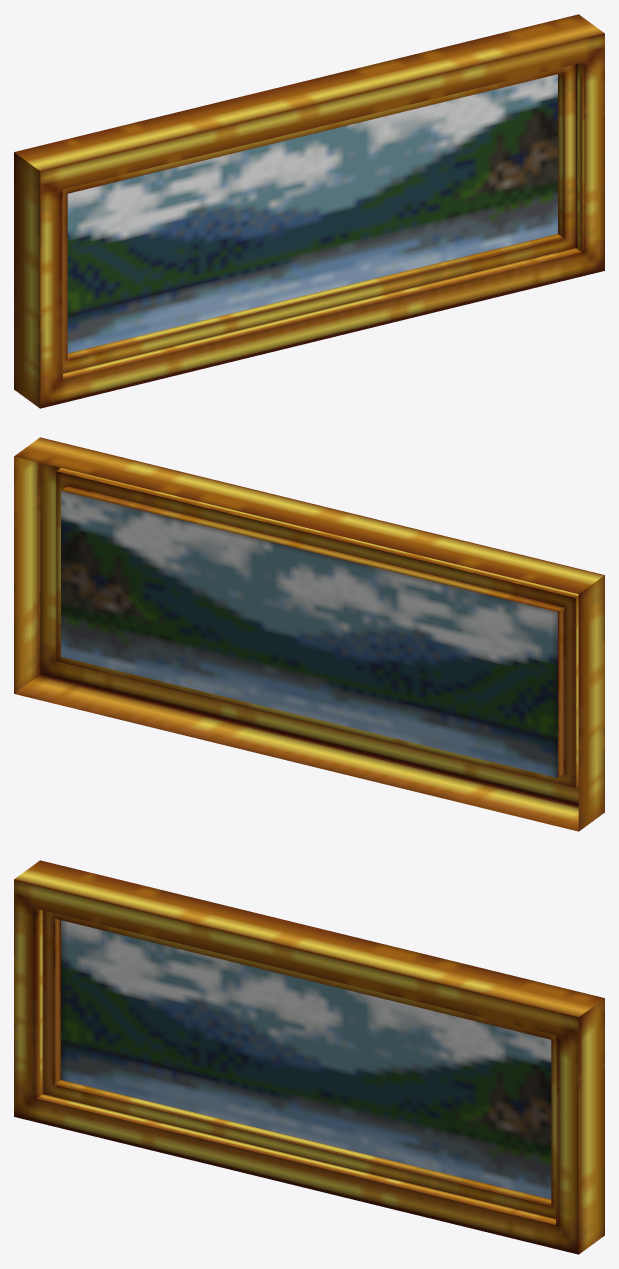
Rendered from Inside_Poly_Wall_Deco_04.obj.
The picture shows the model from 3 angles, top to bottom: view 1: azimuth 30°, elevation 25°; view 2: azimuth 150°, elevation 25°; view 3: azimuth 330°, elevation 25°; orthographic projection.
Visible parts, largest first — view 1: Cube; view 2: Cube; view 3: Cube.
Boxes of the visible parts, box(x1,y1,x2,y2) form: Cube: box(14, 14, 604, 408); Cube: box(14, 437, 604, 831); Cube: box(14, 860, 604, 1254).
Size of the model in its own units: 2.49 by 1 by 0.2.
Materials: 1 (1 with a texture image).
